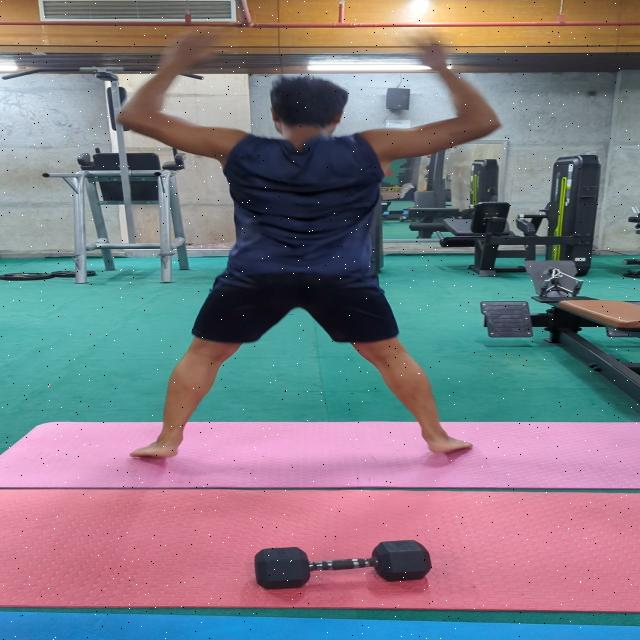Normal_JumpingJacks: (106, 18, 518, 473)
